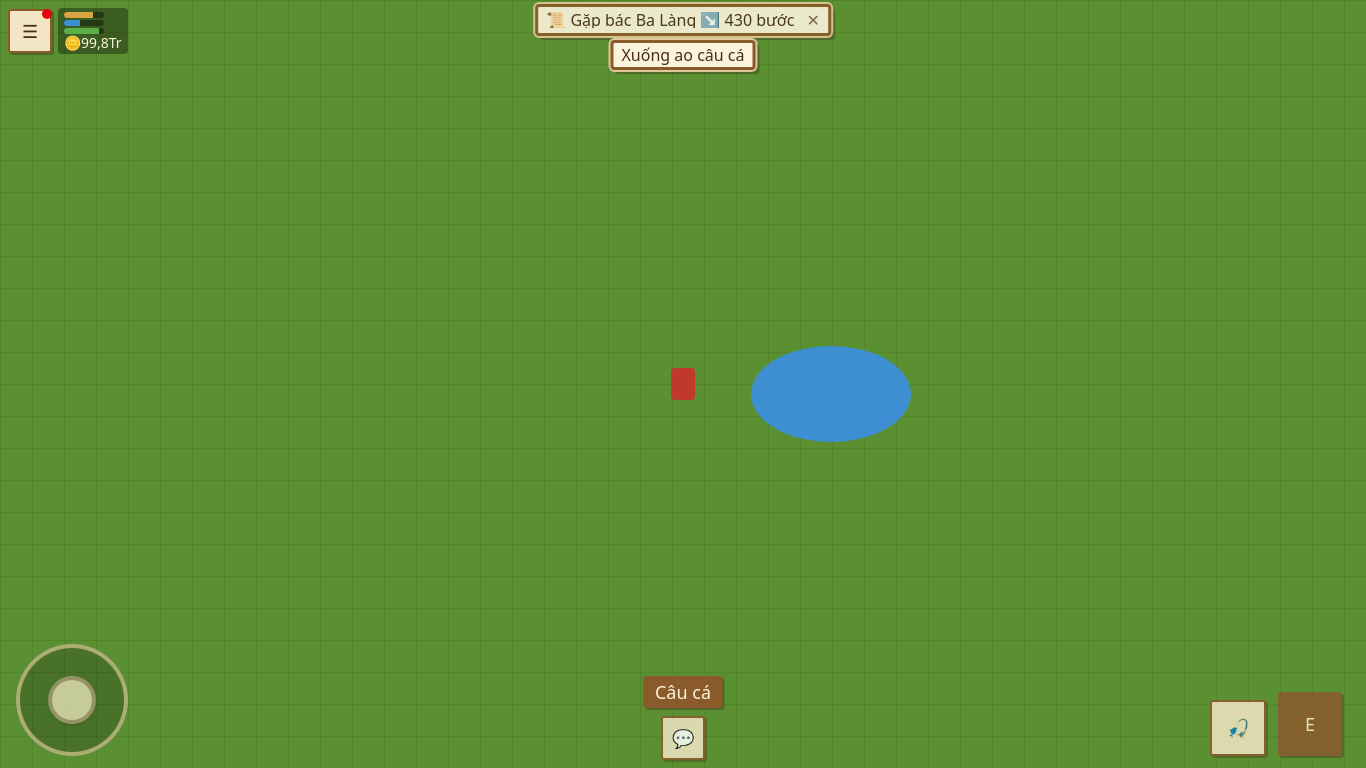
Test case: compact phone HUD › 💬 opens the chat sheet with the input; the story pill opens the quest sheet
The image size is (1366, 768).
Step 1. Click the button with test id "mobile-chat-button" → point(683, 738), box [661, 716, 705, 760]
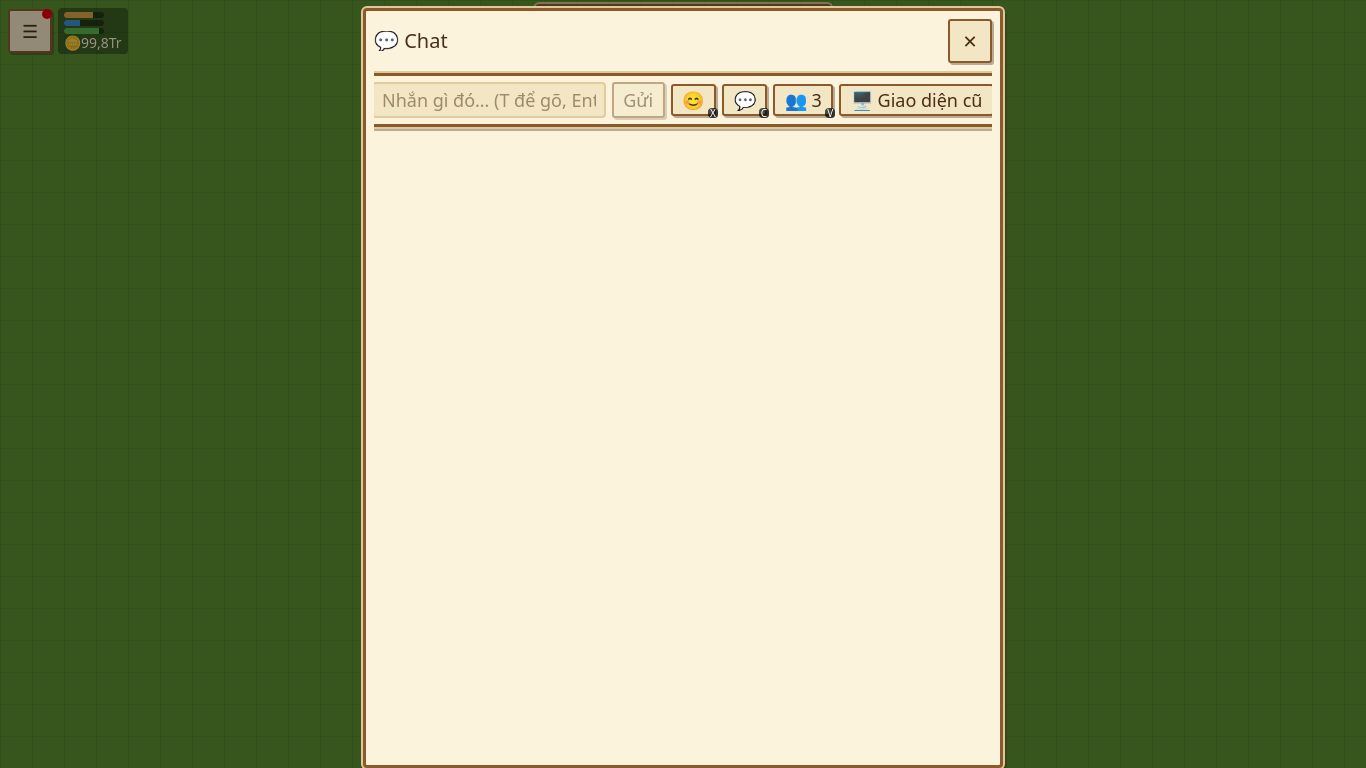
Check: the element with test id "mobile-sheet-chat" is shown
Check: the field named "Tin nhắn" is shown, box [374, 82, 606, 118]
Step 2. Click the button with test id "mobile-sheet-backdrop-chat" → point(82, 384), box [0, 0, 1365, 767]
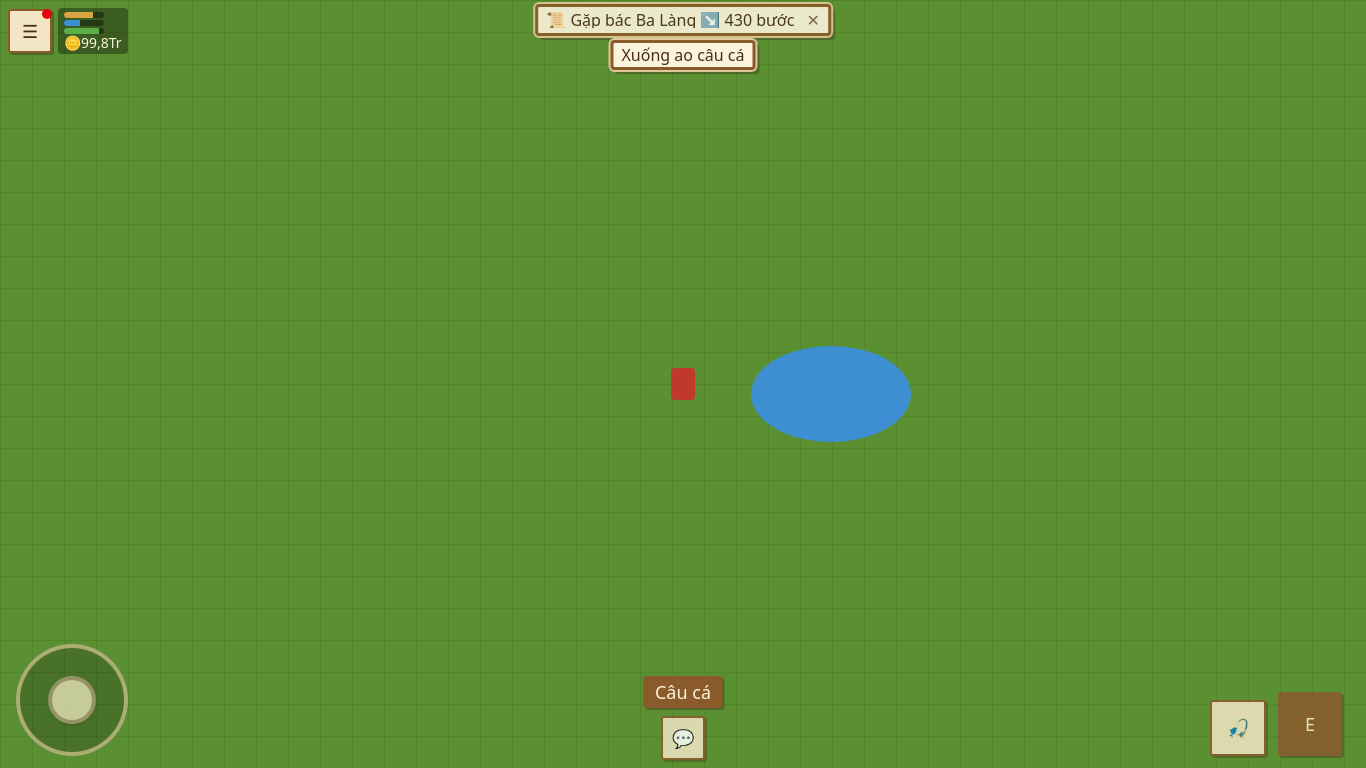
Check: the element with test id "mobile-sheet-chat" is gone
Step 3. Click the button with test id "story-pill-open" → point(670, 20), box [542, 12, 798, 28]
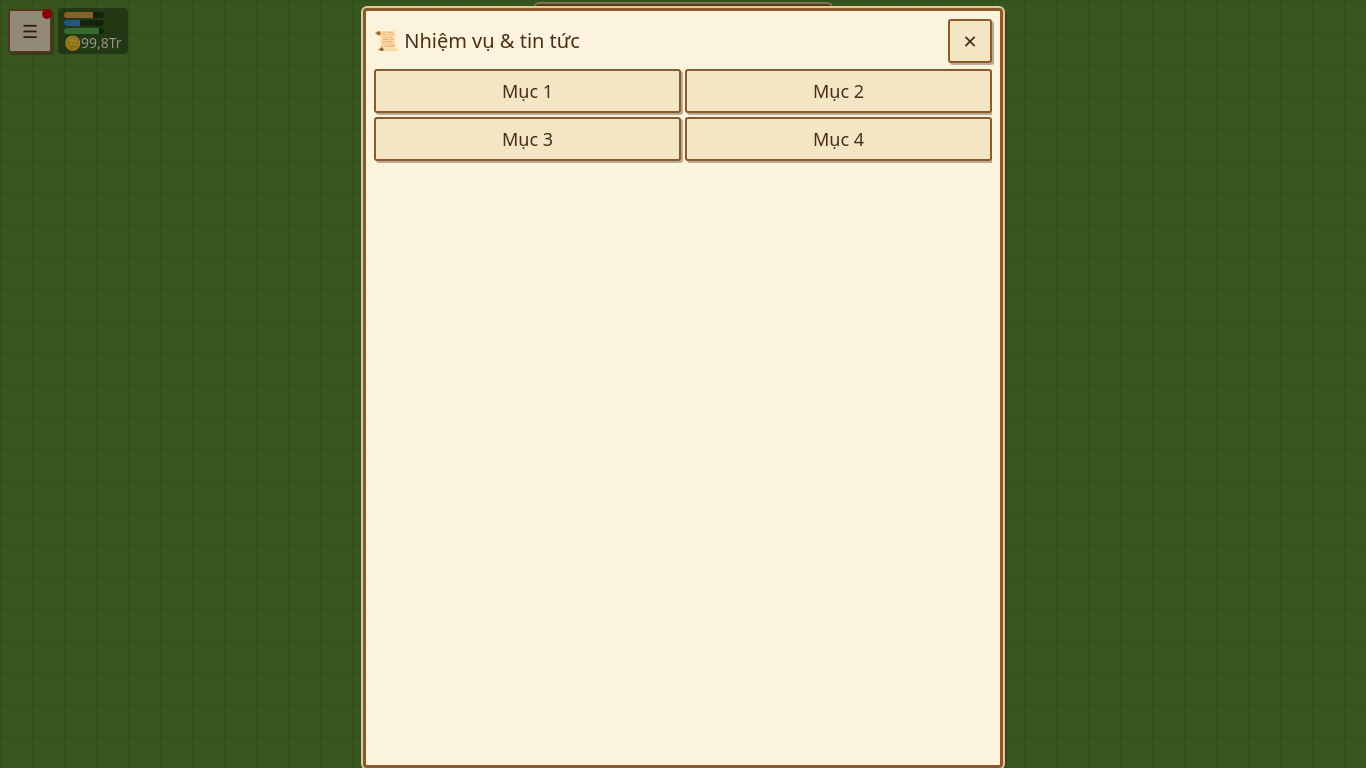
Check: the element with test id "mobile-sheet-quests" is shown
